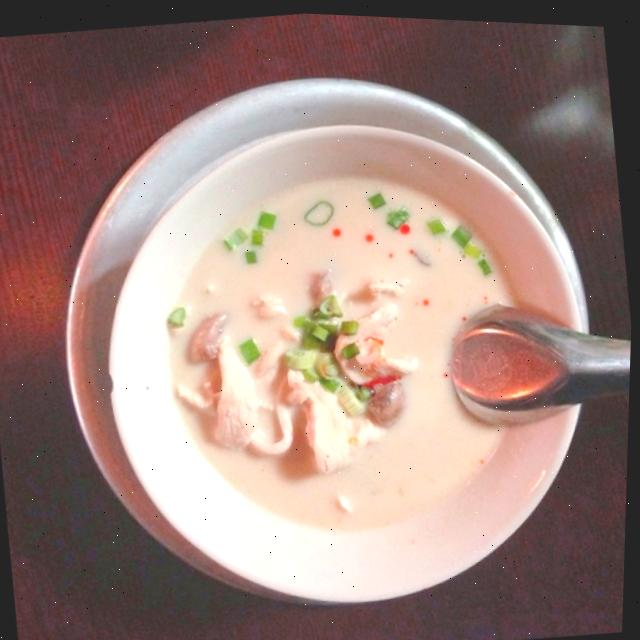汤锅炖物: (38, 24, 639, 640)
